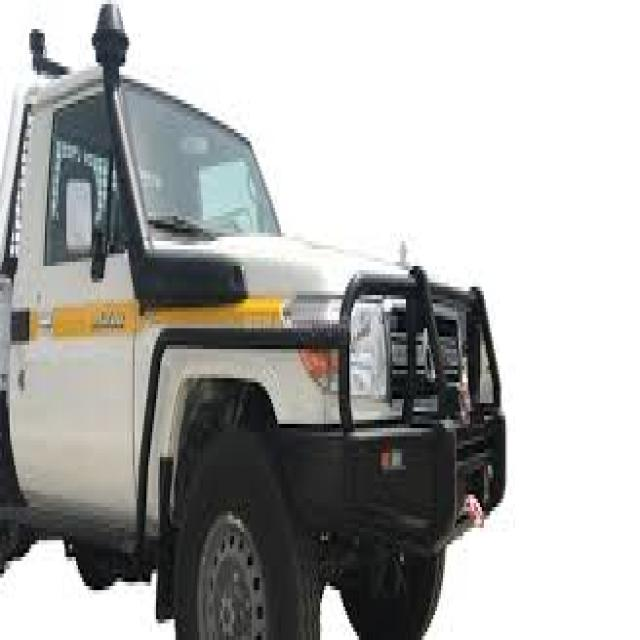light_vehicle: (8, 17, 509, 636)
